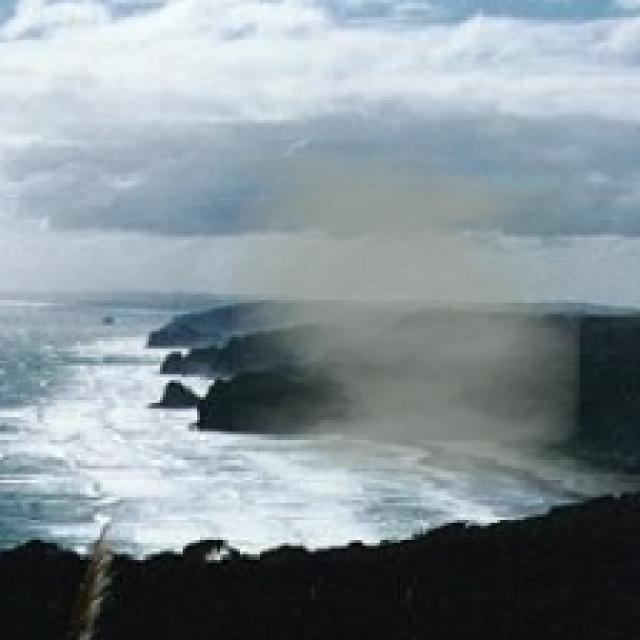smoke: (231, 149, 580, 494)
